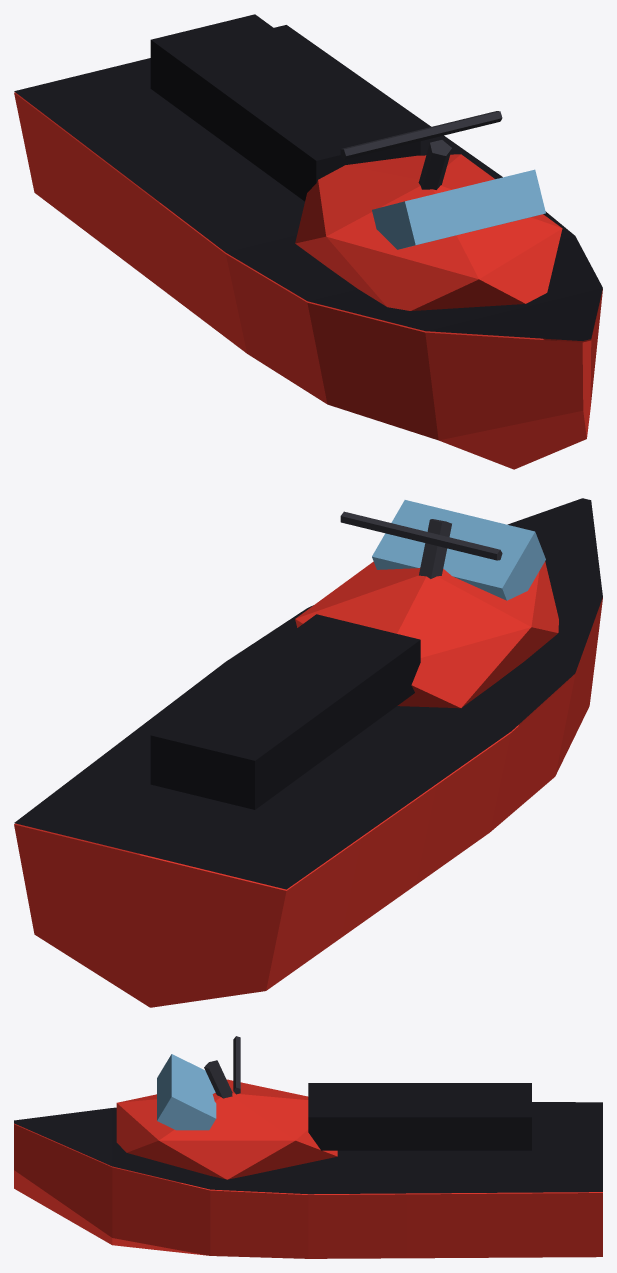
The model's file is jet_ski.glb.
3 renders of one model, top to bottom at view 1: azimuth 30°, elevation 25°; view 2: azimuth 150°, elevation 25°; view 3: azimuth 270°, elevation 25°, orthographic. The views are drawn at different scales.
Parts seen in each view (by area): view 1: jet_ski; view 2: jet_ski; view 3: jet_ski.
Part boxes in pixels (left/top/right/bottom): jet_ski: left=14, top=14, right=602, bottom=469; jet_ski: left=14, top=498, right=602, bottom=1007; jet_ski: left=14, top=1036, right=602, bottom=1258.
Bounding box in the file's own units: 1.1 × 1.02 × 2.9.
